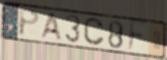3: (65, 14, 81, 45)
8: (108, 20, 125, 50)
A: (38, 12, 63, 41)
C: (83, 17, 106, 47)
F: (127, 19, 149, 54)
P: (18, 7, 41, 39)
